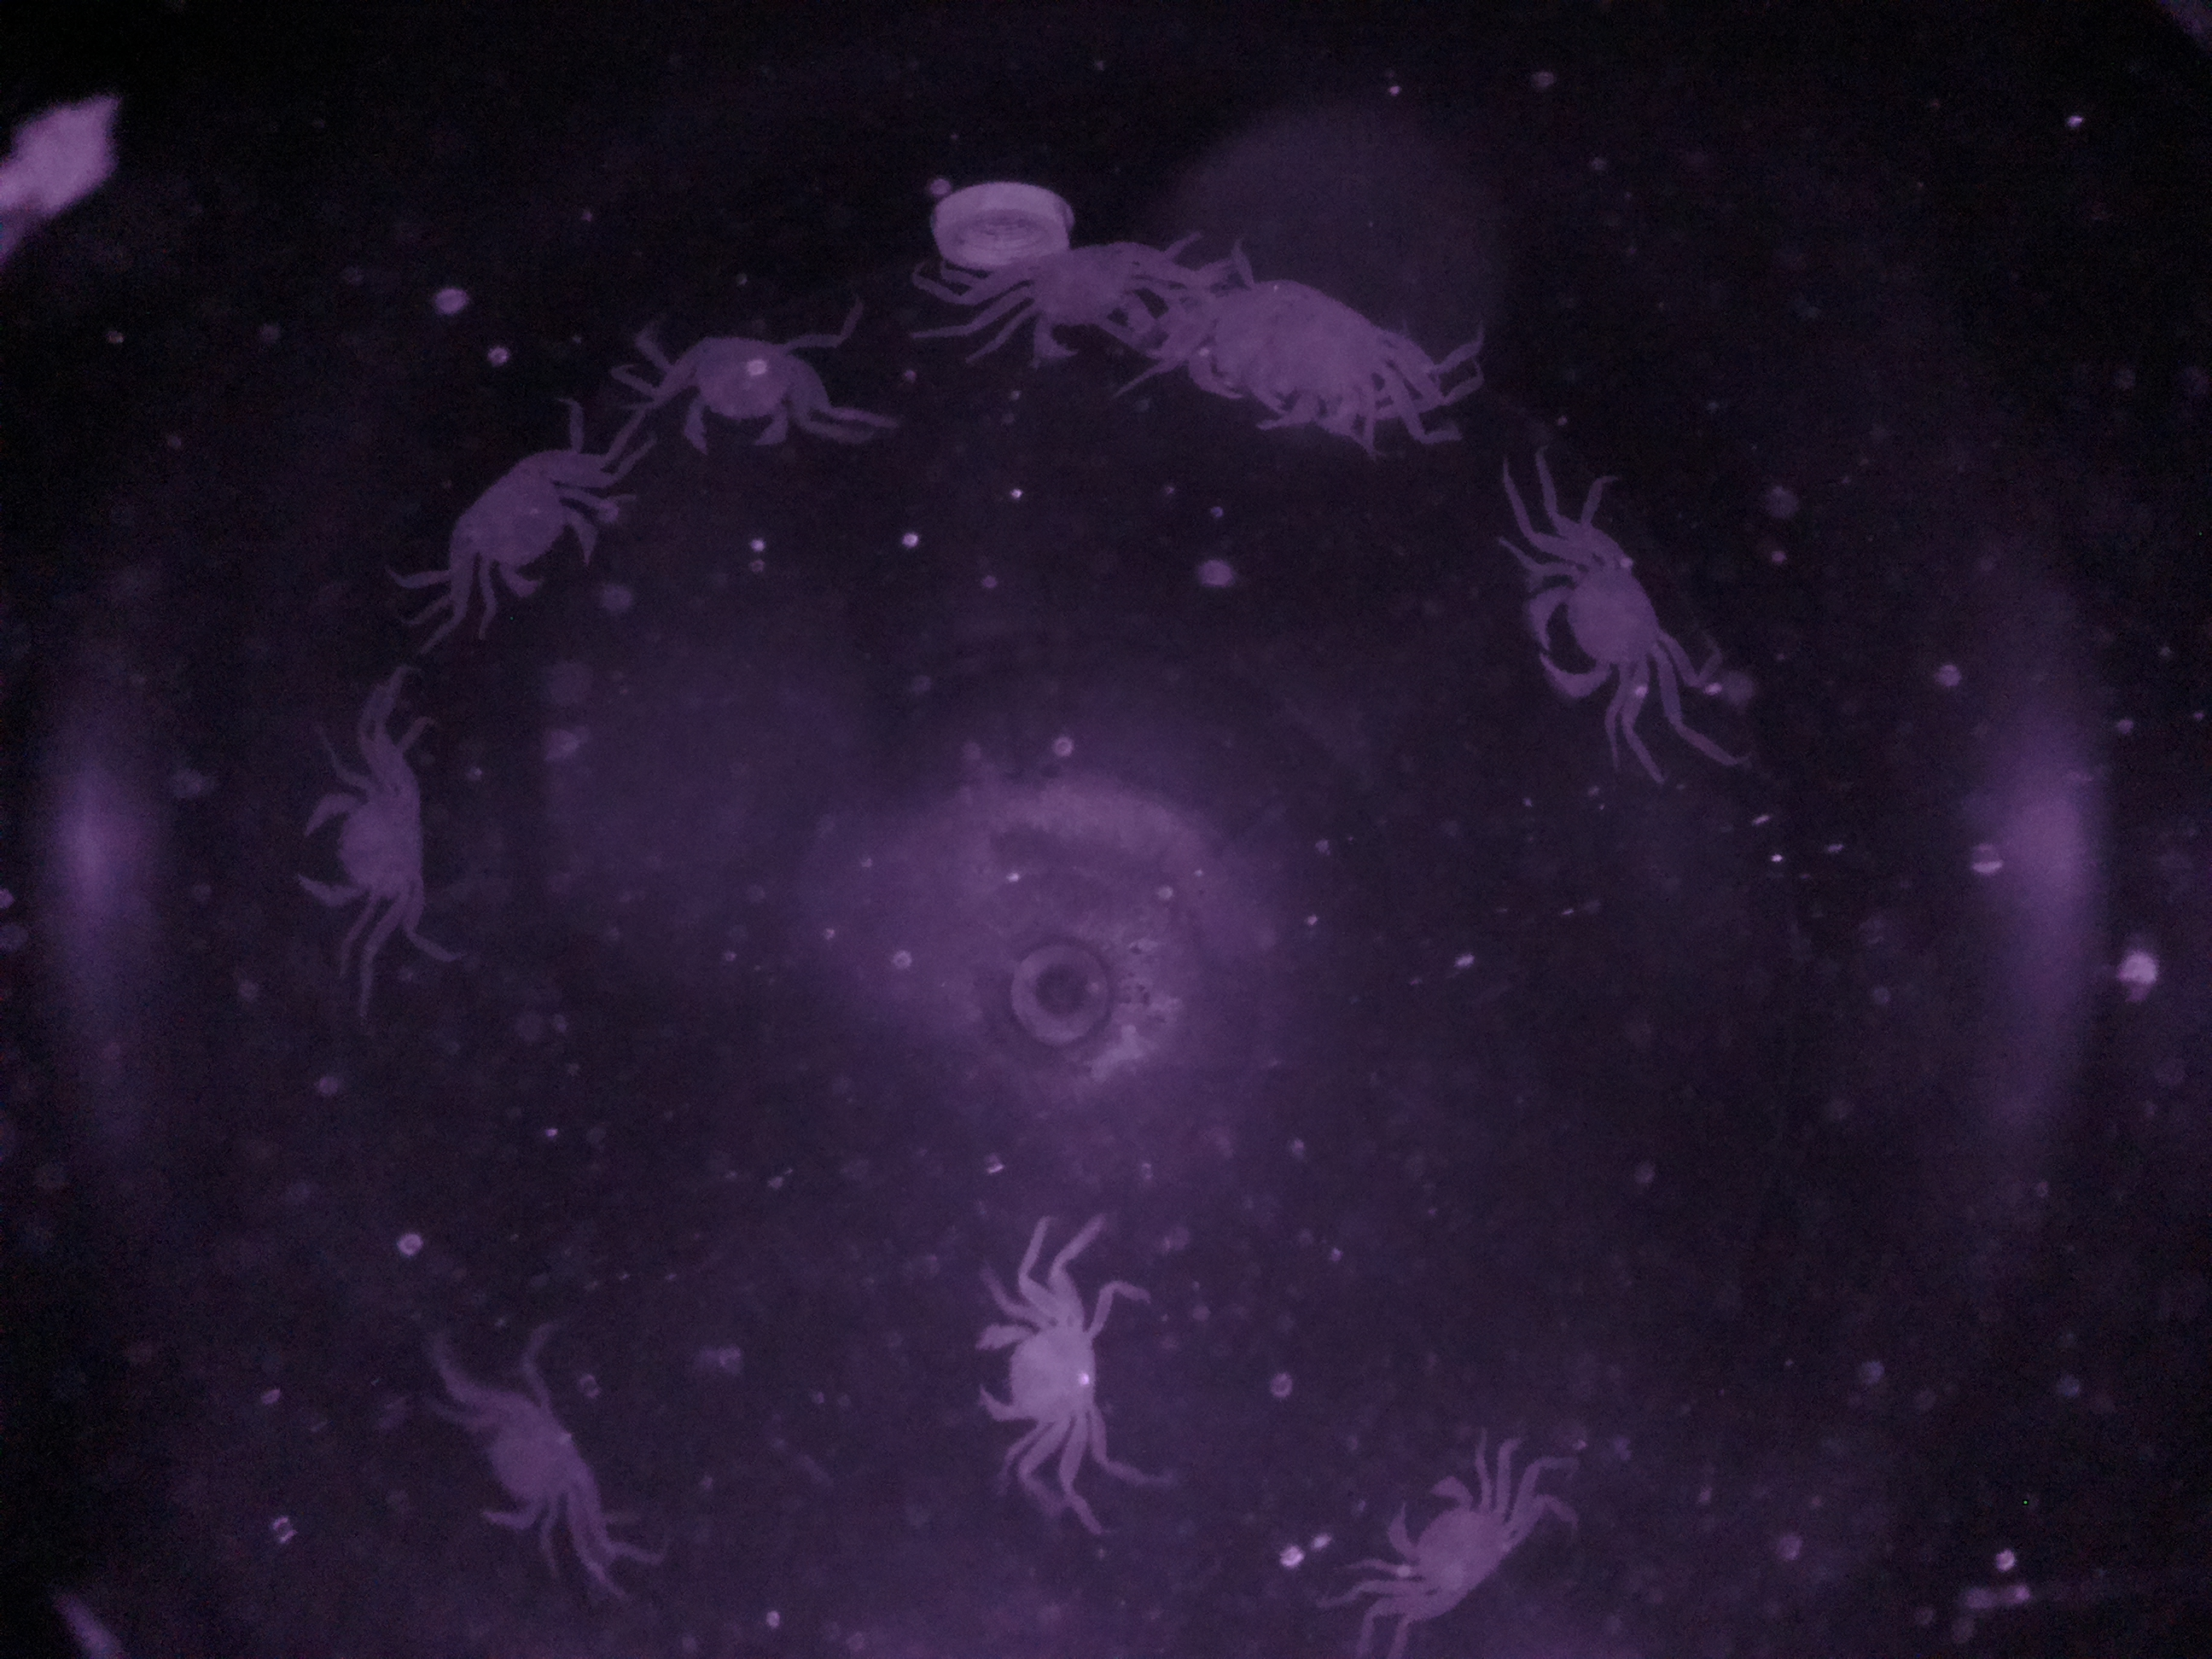Crab: (1507, 518, 1696, 732), (432, 427, 617, 619), (986, 209, 1183, 376), (963, 1272, 1123, 1476), (648, 315, 841, 483), (294, 744, 456, 924), (1369, 1460, 1541, 1621)
